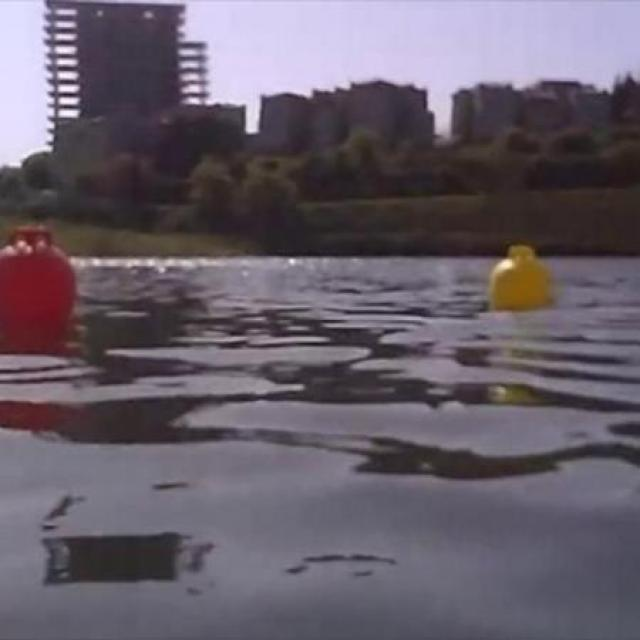buoy: (0, 224, 80, 345), (490, 244, 552, 312)
